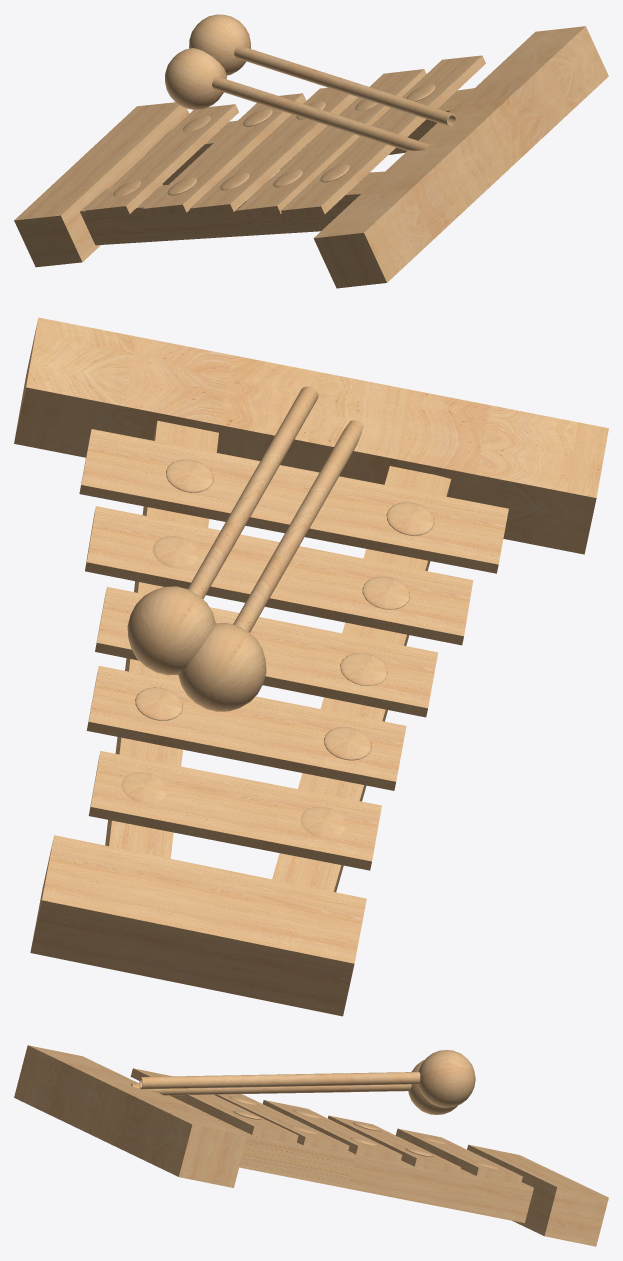
The model's file is xilofono2.DAE.
3 views of the same model, one above another, from view 1: azimuth 30°, elevation 25°; view 2: azimuth 150°, elevation 25°; view 3: azimuth 270°, elevation 25° (orthographic). The views are drawn at different scales.
Visible parts, largest first — view 1: Box010, Box001, Box003, Box005, Box006, Box007, Box009, Box008, Tube001, Tube002, GeoSphere012, GeoSphere011 (+1 smaller); view 2: Box010, Box001, Box005, Box006, Box008, Box009, Box007, Box003, GeoSphere011, Box004, GeoSphere012, Tube001 (+10 smaller); view 3: Box010, Box004, Box001, Tube001, GeoSphere011, Box005, Box009, Box007, Tube002, Box008, Box006, GeoSphere012.
Part boxes in pixels (<box>): Box010: <box>313,26,608,288</box>; Box001: <box>14,102,189,267</box>; Box003: <box>80,171,384,245</box>; Box005: <box>281,55,485,218</box>; Box006: <box>236,69,426,218</box>; Box007: <box>190,87,357,216</box>; Box009: <box>85,104,238,218</box>; Box008: <box>142,93,306,216</box>; Tube001: <box>234,45,456,126</box>; Tube002: <box>212,76,431,150</box>; GeoSphere012: <box>165,48,226,109</box>; GeoSphere011: <box>189,14,250,75</box>; Box010: <box>14,317,608,554</box>; Box001: <box>30,835,366,1016</box>; Box005: <box>79,429,508,573</box>; Box006: <box>85,506,473,645</box>; Box008: <box>86,666,406,790</box>; Box009: <box>88,751,381,870</box>; Box007: <box>95,587,438,717</box>; Box003: <box>272,466,451,892</box>; GeoSphere011: <box>127,586,215,675</box>; Box004: <box>105,420,218,858</box>; GeoSphere012: <box>178,623,266,711</box>; Tube001: <box>188,386,318,598</box>; Box010: <box>14,1045,247,1187</box>; Box004: <box>218,1121,533,1222</box>; Box001: <box>467,1144,608,1246</box>; Tube001: <box>139,1072,420,1089</box>; GeoSphere011: <box>418,1050,475,1107</box>; Box005: <box>130,1068,298,1143</box>; Box009: <box>395,1128,522,1184</box>; Box007: <box>262,1100,402,1163</box>; Tube002: <box>131,1083,411,1095</box>; Box008: <box>328,1115,460,1175</box>; Box006: <box>214,1094,349,1153</box>; GeoSphere012: <box>408,1060,457,1114</box>.
Size of the model in its own units: 79.74 by 107 by 50.22.
Materials: 1 (1 with a texture image).
